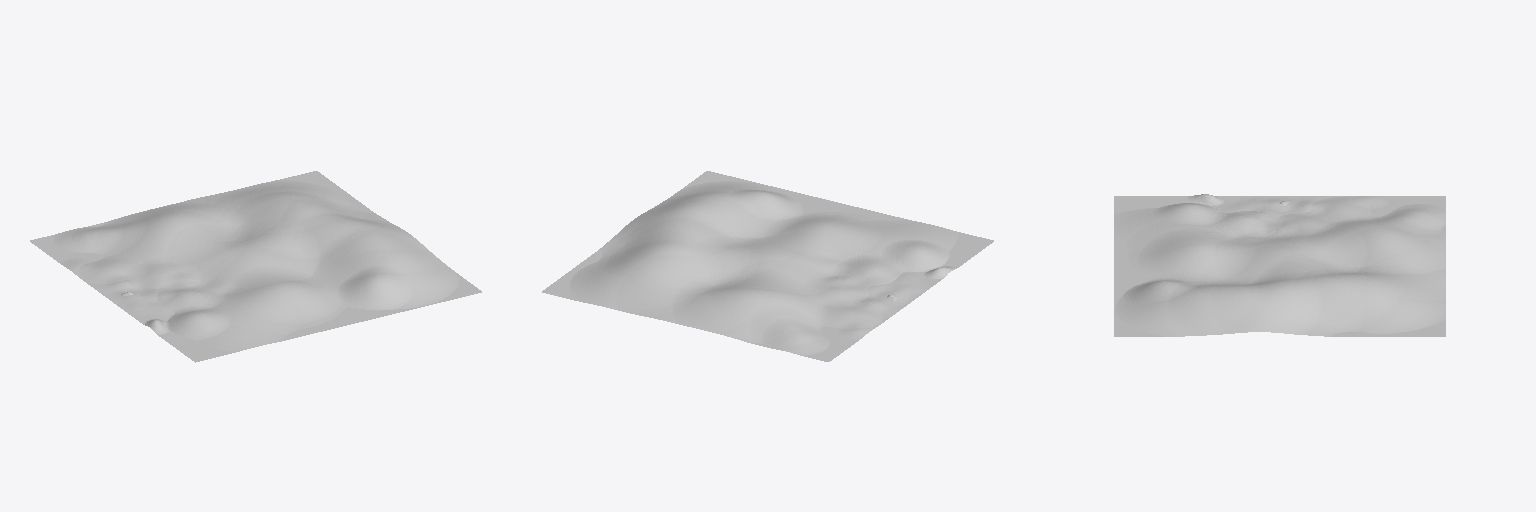
The model's file is Terrain.obj.
3 views of the same model, side by side, from view 1: azimuth 30°, elevation 25°; view 2: azimuth 150°, elevation 25°; view 3: azimuth 270°, elevation 25° (orthographic).
Visible parts, largest first — view 1: Terrain; view 2: Terrain; view 3: Terrain.
Boxes of the visible parts, x1=… form: Terrain: x1=30, y1=171, x2=481, y2=362; Terrain: x1=542, y1=171, x2=993, y2=361; Terrain: x1=1114, y1=194, x2=1445, y2=336.
Size of the model in its own units: 500 by 35.07 by 500.